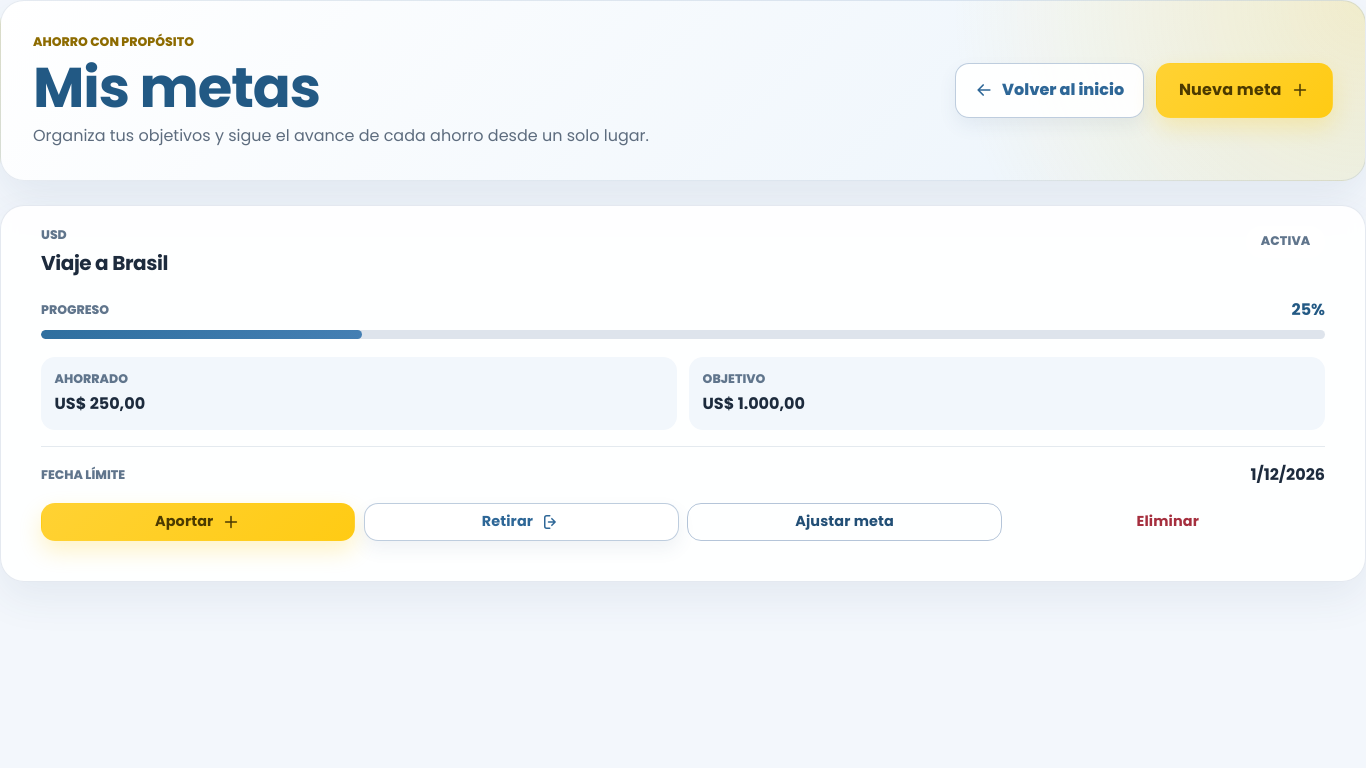
Test case: GoalsPage › prevents saving an adjusted target below the current target
Expected: the heading "Viaje a Brasil" is shown, [41,248,168,278]
Click the button "Ajustar meta": (845, 522) [687,503,1002,541]
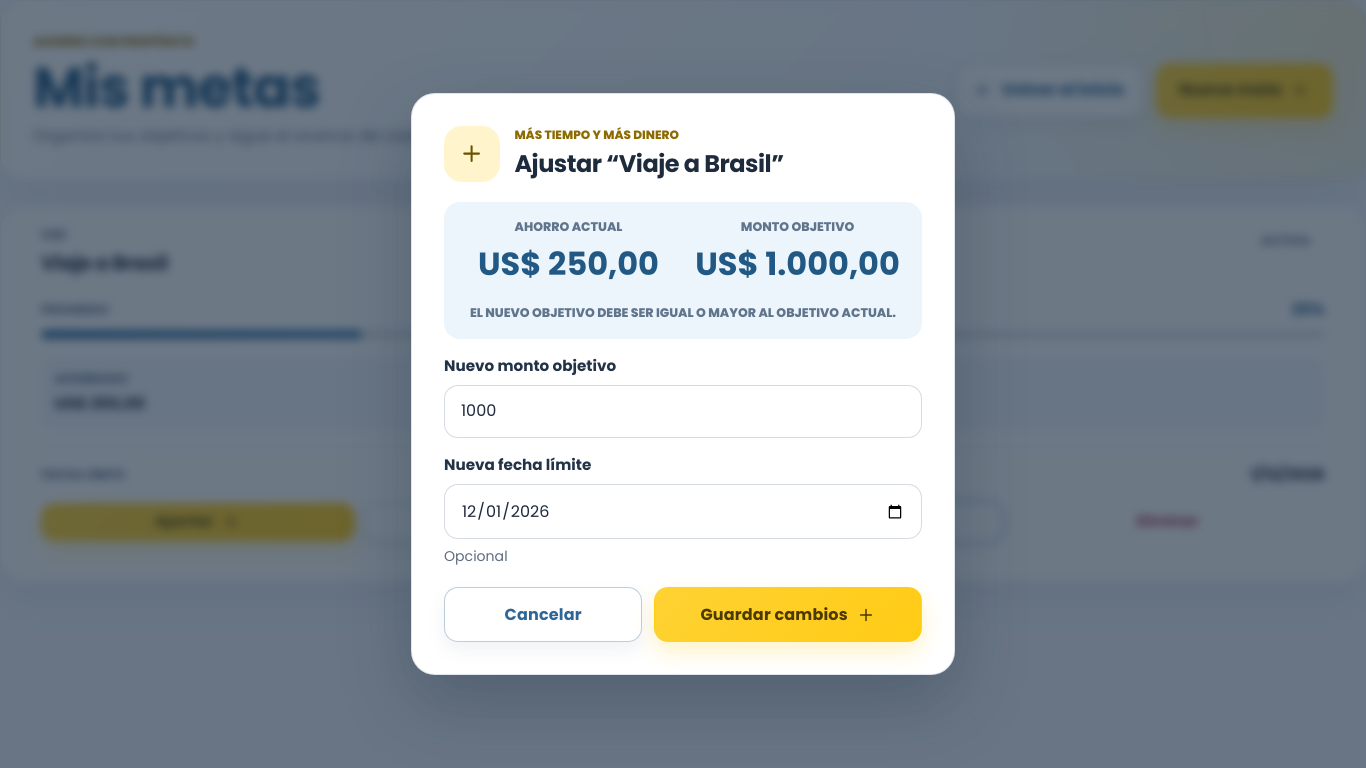
Replace the text in the number field labelled "Nuevo monto objetivo" with "500": (683, 411) [444,385,922,438]
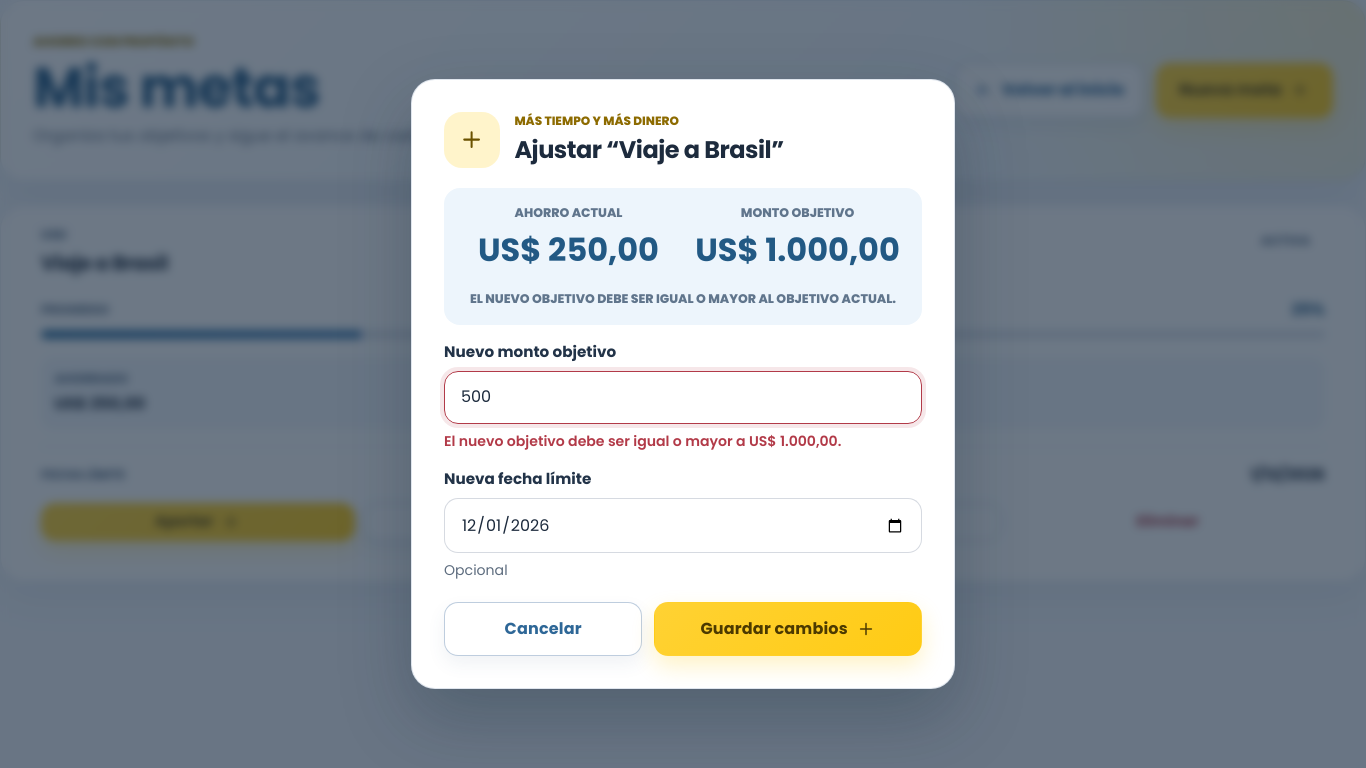
Expected: the button "Guardar cambios" is disabled, [654,602,922,656]
